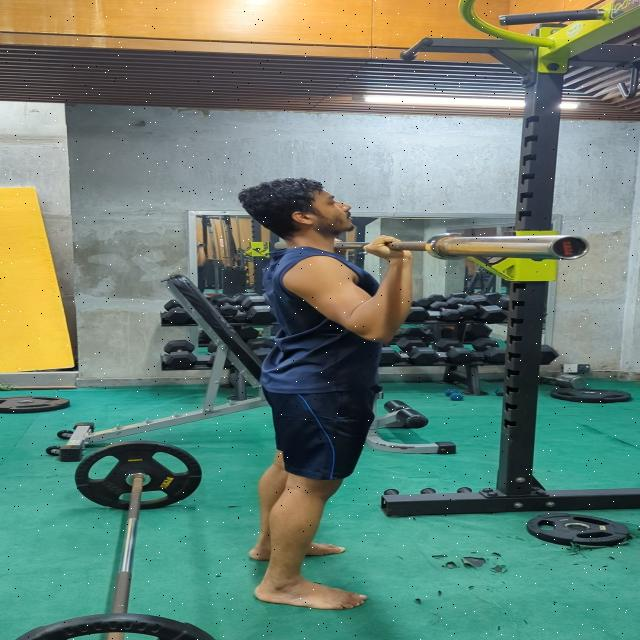Normal_OverheadPress: (216, 156, 424, 626)
